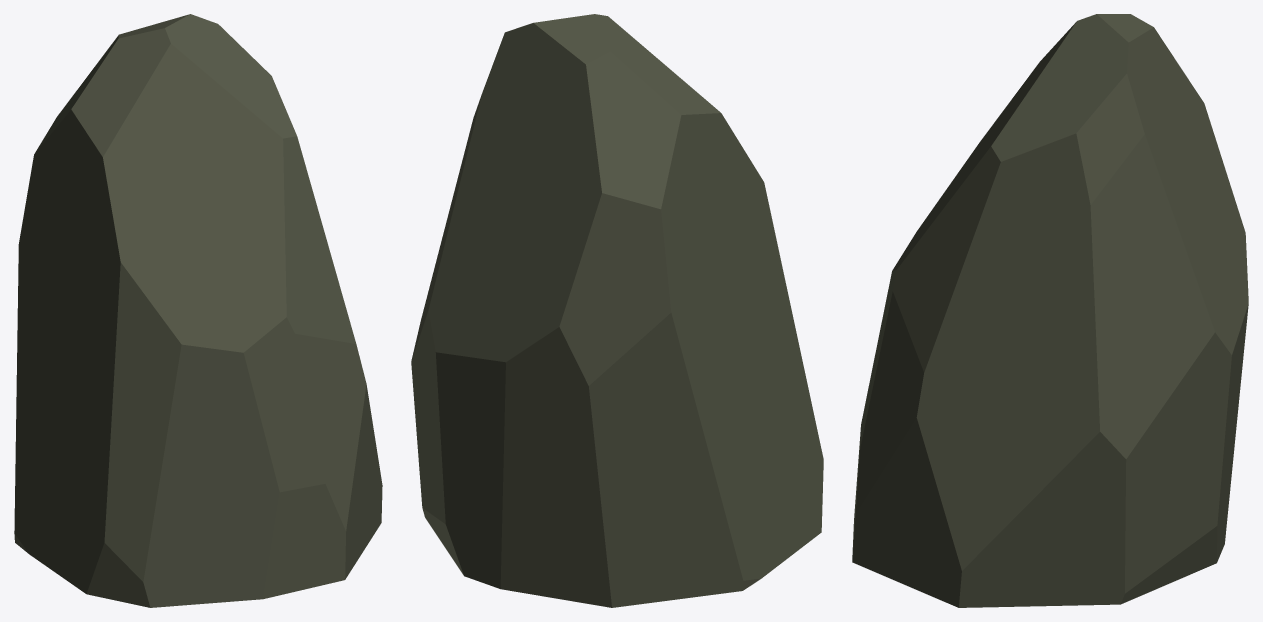
File: rock01.fbx
3 views of the same model, side by side, from view 1: azimuth 30°, elevation 25°; view 2: azimuth 150°, elevation 25°; view 3: azimuth 270°, elevation 25° (orthographic). The views are drawn at different scales.
Parts seen in each view (by area): view 1: Cube.000; view 2: Cube.000; view 3: Cube.000.
Boxes of the visible parts, box(x1,y1,x2,y2) form: Cube.000: box(14, 14, 382, 607); Cube.000: box(411, 14, 823, 607); Cube.000: box(852, 14, 1248, 607).
Size of the model in its own units: 61.01 by 94.28 by 65.56.
